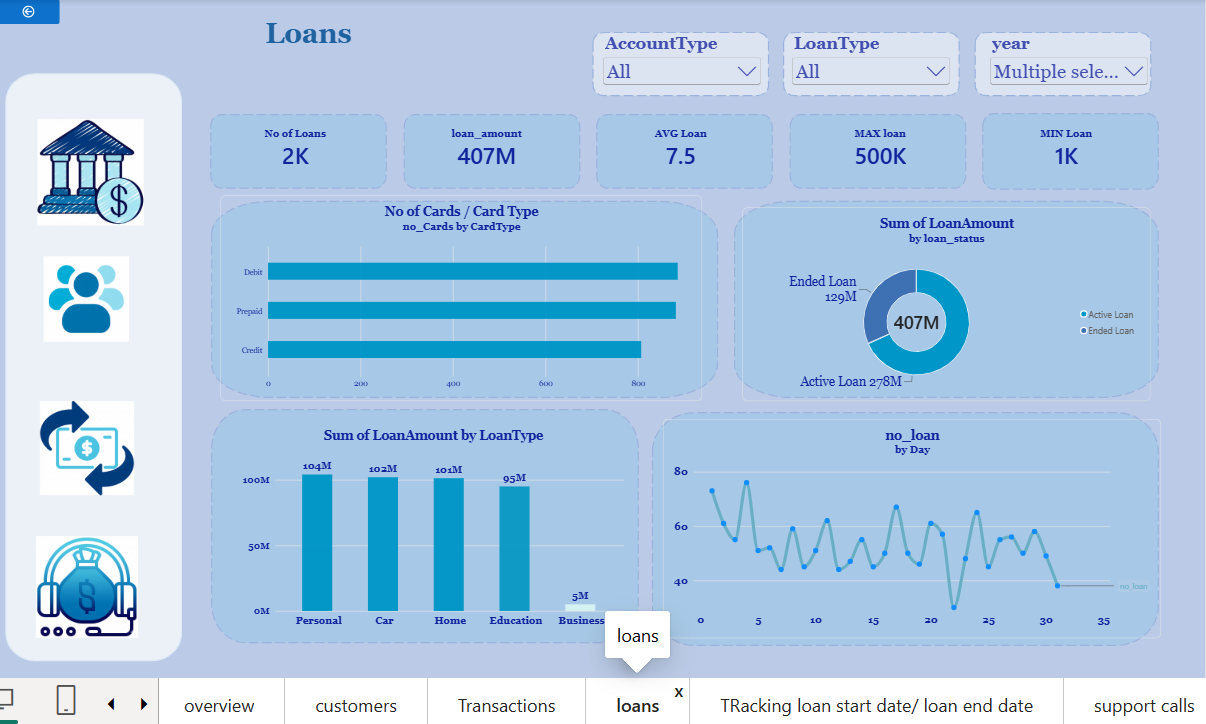

Layout of this report page (visuals, bound fields, positions):
{"tool":"powerbi","page":{"name":"loans","canvas":[1920,1080],"ordinal":3},"visuals":[{"type":"cardVisual","fields":{"Data":["loan_calculation.no_loan"]},"box":[355.5,190.9,238.6,97.8],"z":0},{"type":"cardVisual","fields":{"Data":["calculation_overiew.loan_amount"]},"box":[644.2,190.9,269.6,97.8],"z":1000},{"type":"cardVisual","fields":{"Data":["loan_calculation.avg_loan_amount"]},"box":[968.7,190.9,238.6,97.8],"z":2000},{"type":"cardVisual","fields":{"Data":["loan_calculation.max_loan"]},"box":[1286,190.9,238.6,97.8],"z":3000},{"type":"cardVisual","fields":{"Data":["loan_calculation.min_loan"]},"box":[1581.9,190.9,238.6,97.8],"z":4000},{"type":"lineClusteredColumnComboChart","fields":{"Category":["Loans.LoanType"],"Y":["Sum(Loans.LoanAmount)"]},"box":[374.6,668.1,639.4,348.3],"z":5000},{"type":"lineChart","fields":{"Category":["calender.Date.Variation.Date Hierarchy.Year","calender.Date.Variation.Date Hierarchy.Quarter","calender.Date.Variation.Date Hierarchy.Month","calender.Date.Variation.Date Hierarchy.Day"],"Y":["loan_calculation.no_loan"]},"box":[1059.3,668.1,792.1,348.3],"z":6000},{"type":"donutChart","fields":{"Category":["Loans.loan_status"],"Y":["Sum(Loans.LoanAmount)"]},"box":[1185.8,331.6,649,307.8],"z":7000},{"type":"clusteredBarChart","title":"No of Cards / Card Type","fields":{"Category":["Cards.CardType"],"Y":["calculation_overiew.no_Cards"]},"box":[355.5,312.6,765.9,326.9],"z":8000},{"type":"actionButton","box":[0,0,100,40],"z":9000},{"type":"image","box":[38.2,190.9,221.9,169.4],"z":10000},{"type":"image","box":[38.2,639.4,210,150],"z":12000},{"type":"image","box":[74,391.3,136,171.8],"z":13000},{"type":"image","box":[47.7,854.2,190.9,162.2],"z":14000},{"type":"slicer","fields":{"Values":["calender.year"]},"box":[1574.7,55.7,260.1,85.9],"z":15000},{"type":"slicer","fields":{"Values":["Loans.LoanType"]},"box":[1259.8,55.7,260.1,95.4],"z":16000},{"type":"slicer","fields":{"Values":["Accounts.AccountType"]},"box":[959.1,54.9,260.1,95.4],"z":17000},{"type":"shape","box":[305,2.5,380,105],"z":18000}]}

Visuals, with their boxes on the page's 1920x1080 design canvas (x1, y1, x2, y2). These are canvas units, not pixel positions in the 1206x724 screenshot, which may show the page scaled, cropped or inside an application window:
cardVisual - loan_calculation.no_loan: 356:191:594:289
cardVisual - calculation_overiew.loan_amount: 644:191:914:289
cardVisual - loan_calculation.avg_loan_amount: 969:191:1207:289
cardVisual - loan_calculation.max_loan: 1286:191:1525:289
cardVisual - loan_calculation.min_loan: 1582:191:1820:289
lineClusteredColumnComboChart - Loans.LoanType x Sum(Loans.LoanAmount): 375:668:1014:1016
lineChart - calender.Date.Variation.Date Hierarchy.Year x calender.Date.Variation.Date Hierarchy.Quarter: 1059:668:1851:1016
donutChart - Loans.loan_status x Sum(Loans.LoanAmount): 1186:332:1835:639
"No of Cards / Card Type" clusteredBarChart: 356:313:1121:640
actionButton: 0:0:100:40
image: 38:191:260:360
image: 38:639:248:789
image: 74:391:210:563
image: 48:854:239:1016
slicer - calender.year: 1575:56:1835:142
slicer - Loans.LoanType: 1260:56:1520:151
slicer - Accounts.AccountType: 959:55:1219:150
shape: 305:2:685:108
